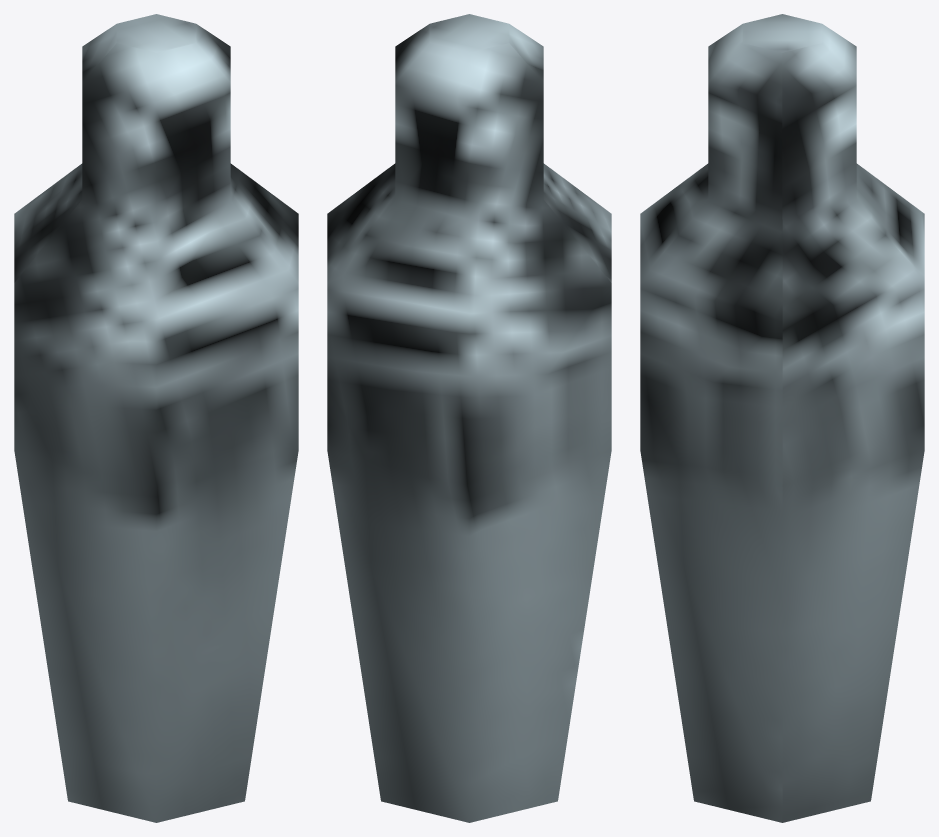
The model's file is Shaker.fbx.
The picture shows the model from 3 angles, left to right: view 1: azimuth 30°, elevation 25°; view 2: azimuth 150°, elevation 25°; view 3: azimuth 270°, elevation 25°; orthographic projection.
Visible parts, largest first — view 1: Glasses.017; view 2: Glasses.017; view 3: Glasses.017.
Part boxes in pixels (left/top/right/bottom): Glasses.017: left=14, top=14, right=298, bottom=822; Glasses.017: left=327, top=14, right=611, bottom=822; Glasses.017: left=640, top=14, right=924, bottom=822.
Bounding box in the file's own units: 0.1072 × 0.269 × 0.0928.
